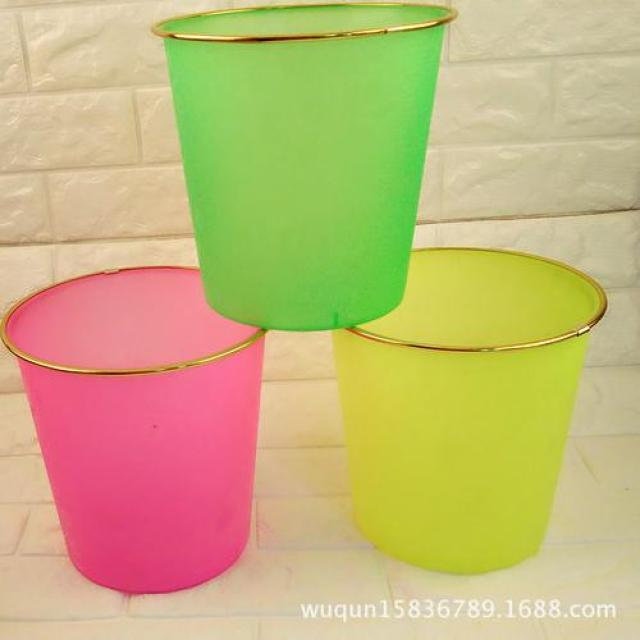dustbin: (148, 4, 464, 333), (329, 247, 614, 580), (0, 259, 273, 600)
